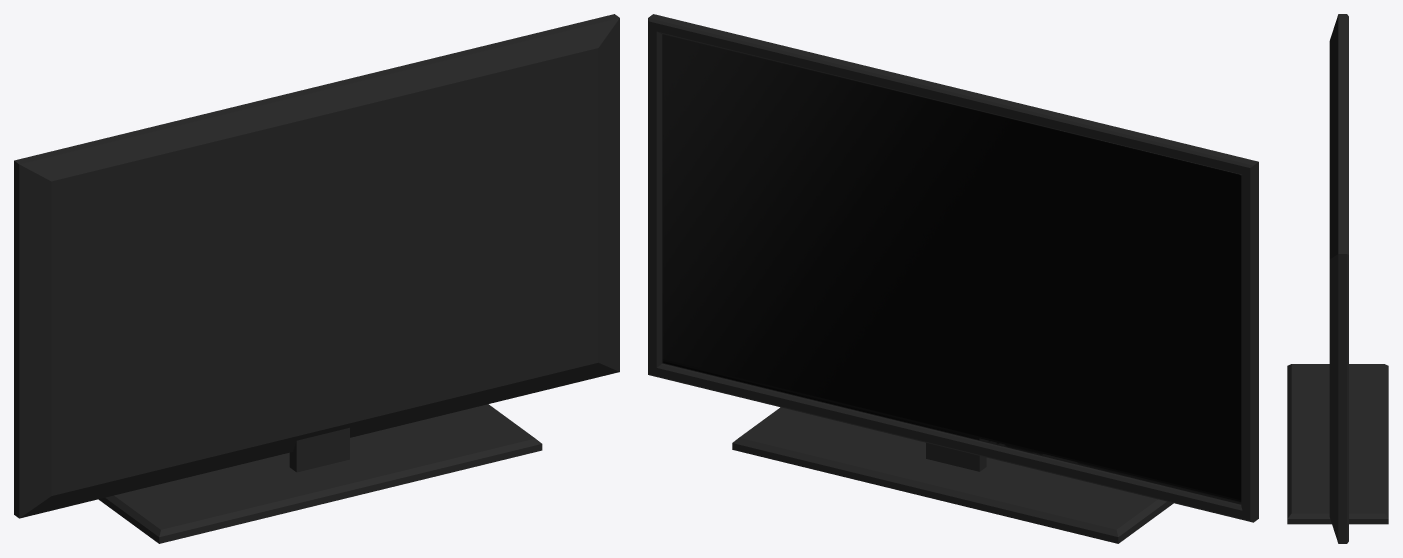
Rendered from Screen.fbx.
The picture shows the model from 3 angles, left to right: view 1: azimuth 30°, elevation 25°; view 2: azimuth 150°, elevation 25°; view 3: azimuth 270°, elevation 25°; orthographic projection. The views are drawn at different scales.
Parts seen in each view (by area): view 1: TV; view 2: TV; view 3: TV.
Part boxes in pixels (x1=…): TV: x1=14, y1=14, x2=619, y2=543; TV: x1=648, y1=14, x2=1258, y2=543; TV: x1=1287, y1=14, x2=1388, y2=543.
Bounding box in the file's own units: 140 × 85.4 × 24.92.
1 material, 1 textured.
